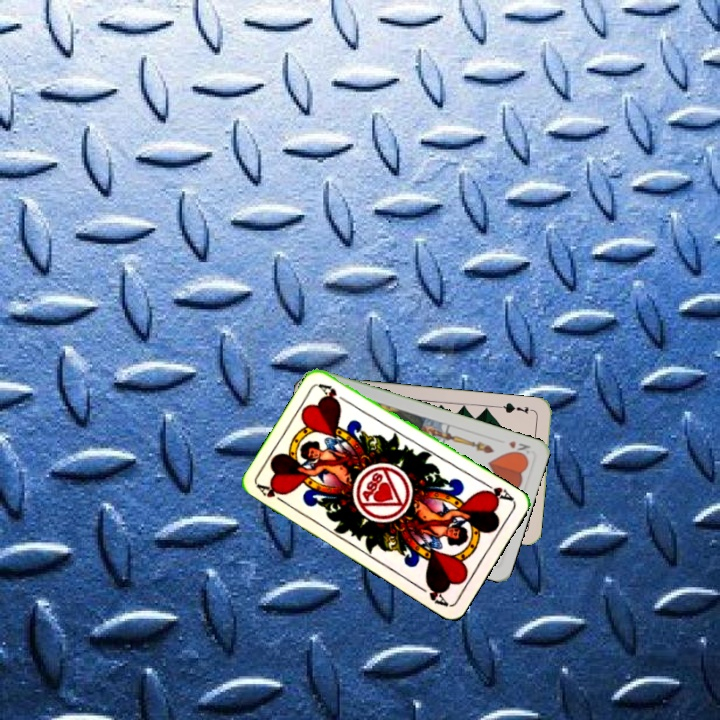G7: (496, 398, 537, 416)
HA: (253, 480, 291, 508), (478, 477, 516, 504)
HK: (505, 436, 533, 459)
